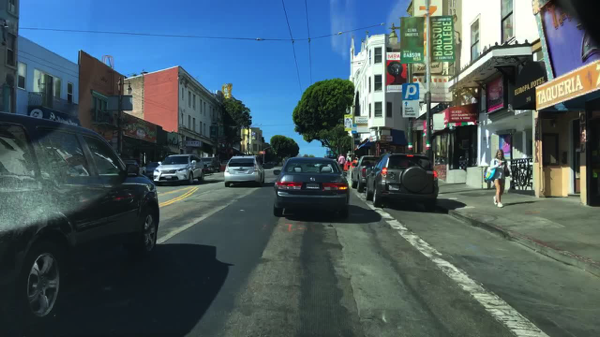car: (0, 112, 160, 327), (272, 157, 348, 217), (365, 153, 438, 208), (154, 154, 205, 184), (224, 156, 264, 187), (351, 155, 378, 191), (147, 112, 159, 162), (200, 156, 220, 173), (266, 162, 273, 164)
person: (484, 150, 512, 208), (338, 154, 345, 169), (346, 160, 350, 171), (356, 155, 358, 165), (346, 154, 349, 160)
